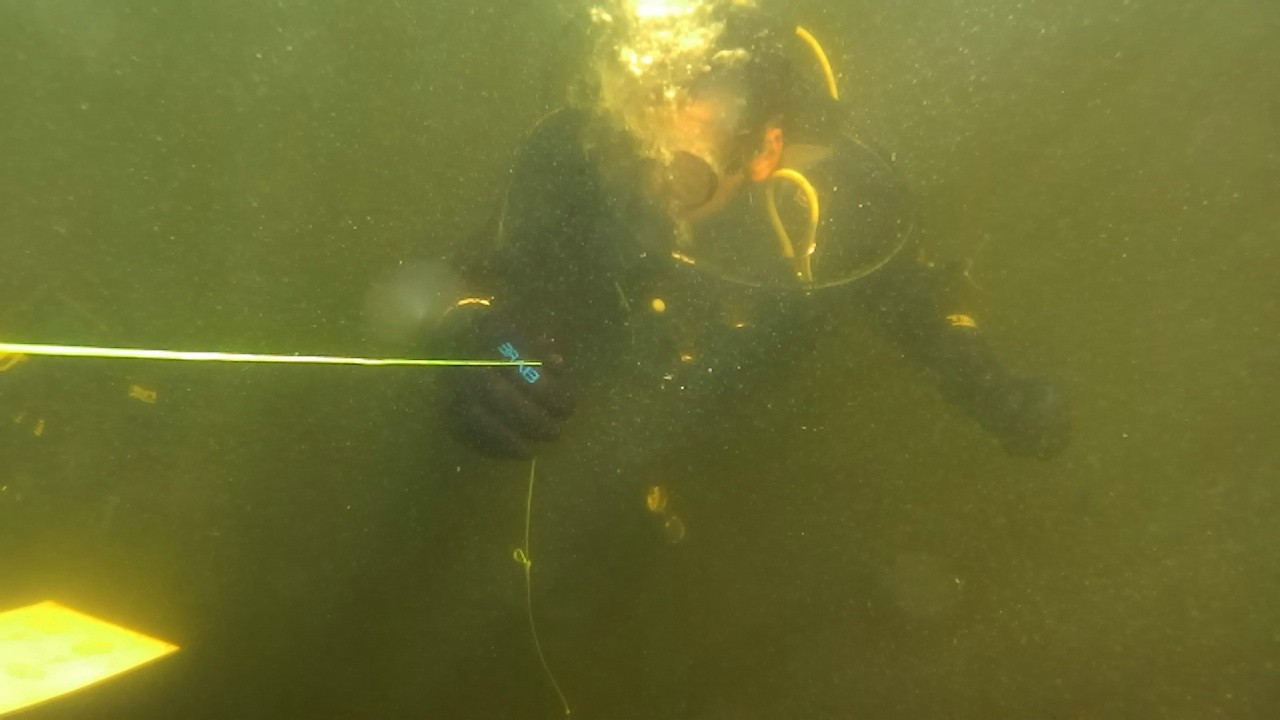Diver: (370, 10, 1094, 474)
Hand: (426, 312, 592, 466), (958, 358, 1080, 472)
Head: (572, 26, 790, 258)
